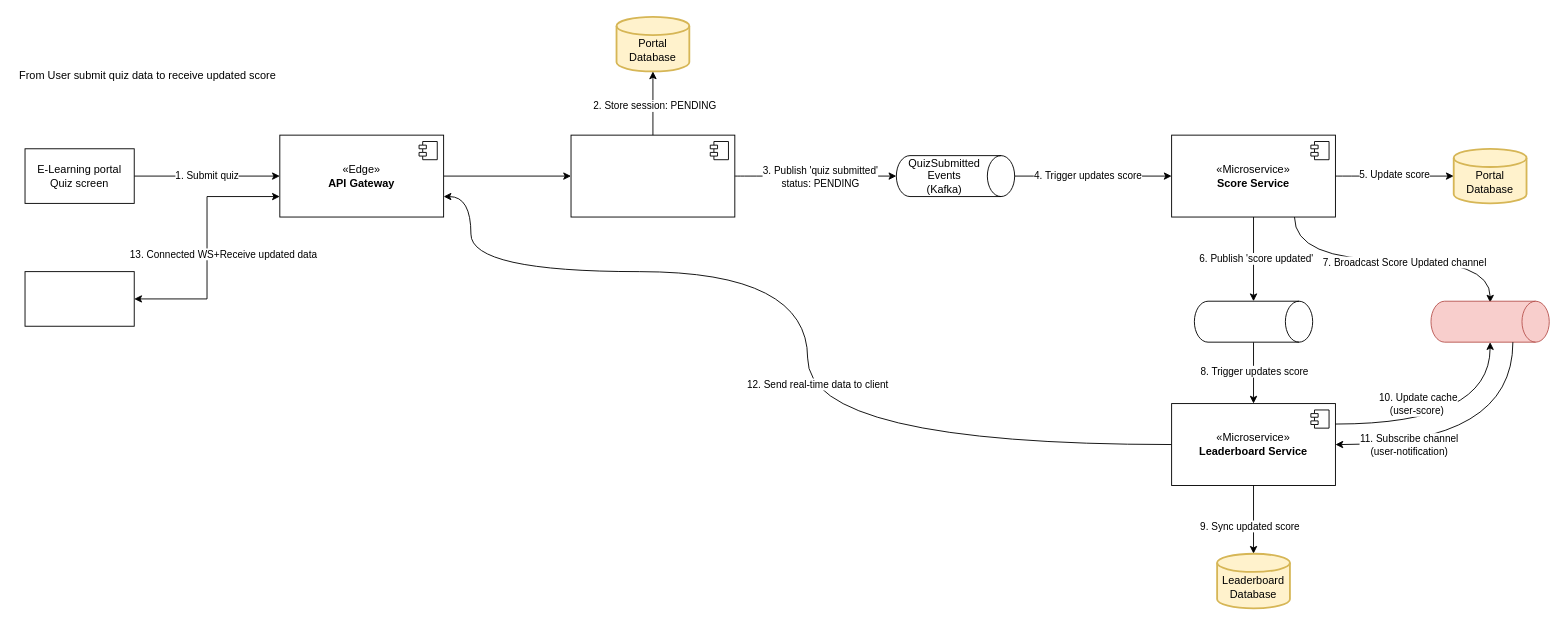
This 1565x624 diagram has some shape labels left out. Here are the shapes that lost their labels. From the top down, the centre of each, then its label:
the point at 652,175: «Microservice» Quiz Service
the point at 79,298: E-Learning portal Leader board screen
the point at 1253,321: ScoreUpdated Events (Kafka)
the point at 1489,321: Message Broker (Redis)
